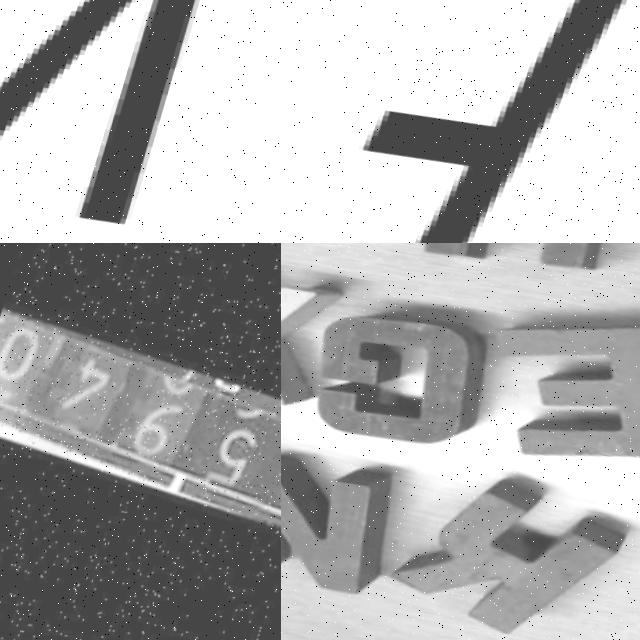0: (0, 318, 53, 393)
4: (62, 347, 125, 427)
5: (206, 421, 273, 502)
9: (126, 390, 198, 475)
E: (452, 284, 640, 501)
F: (281, 0, 640, 243)
G: (302, 277, 537, 470)
K: (389, 460, 640, 640)
N: (281, 443, 415, 613)
U: (387, 243, 640, 295)
X: (281, 243, 351, 430)
Y: (0, 0, 281, 243)
